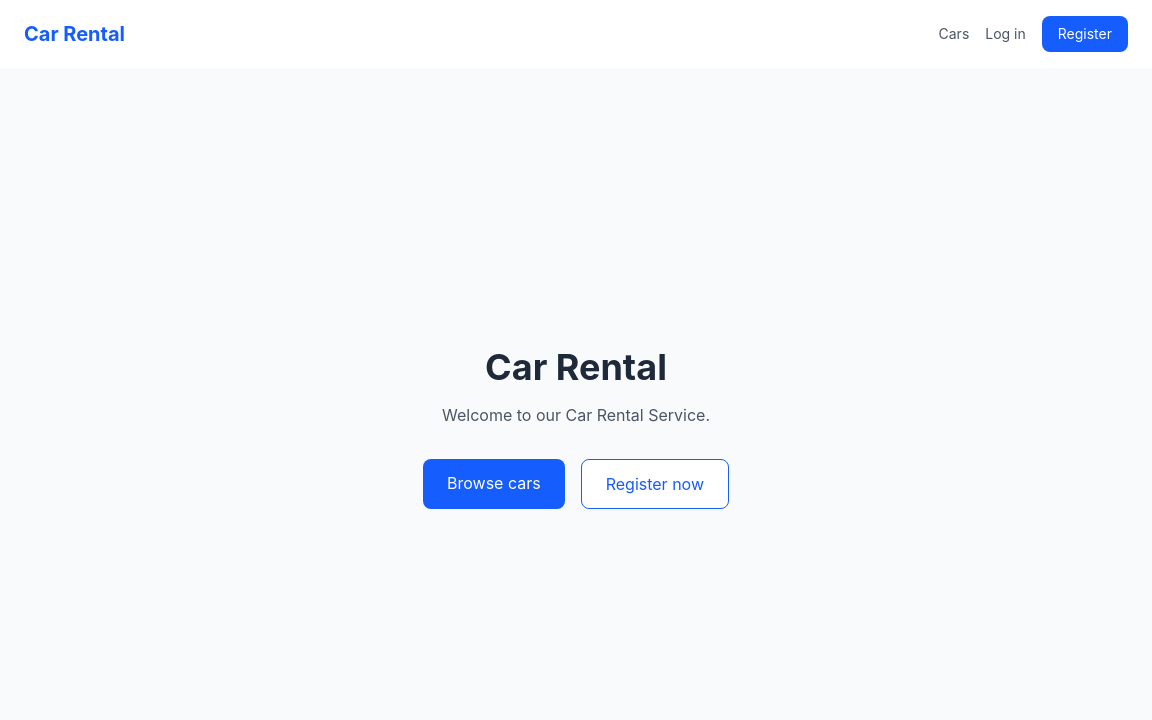
Scenario: Home page › navigates to the car list on click
Click the link with class "browse-cars".
click(494, 484)  # box left=423, top=459, right=565, bottom=509
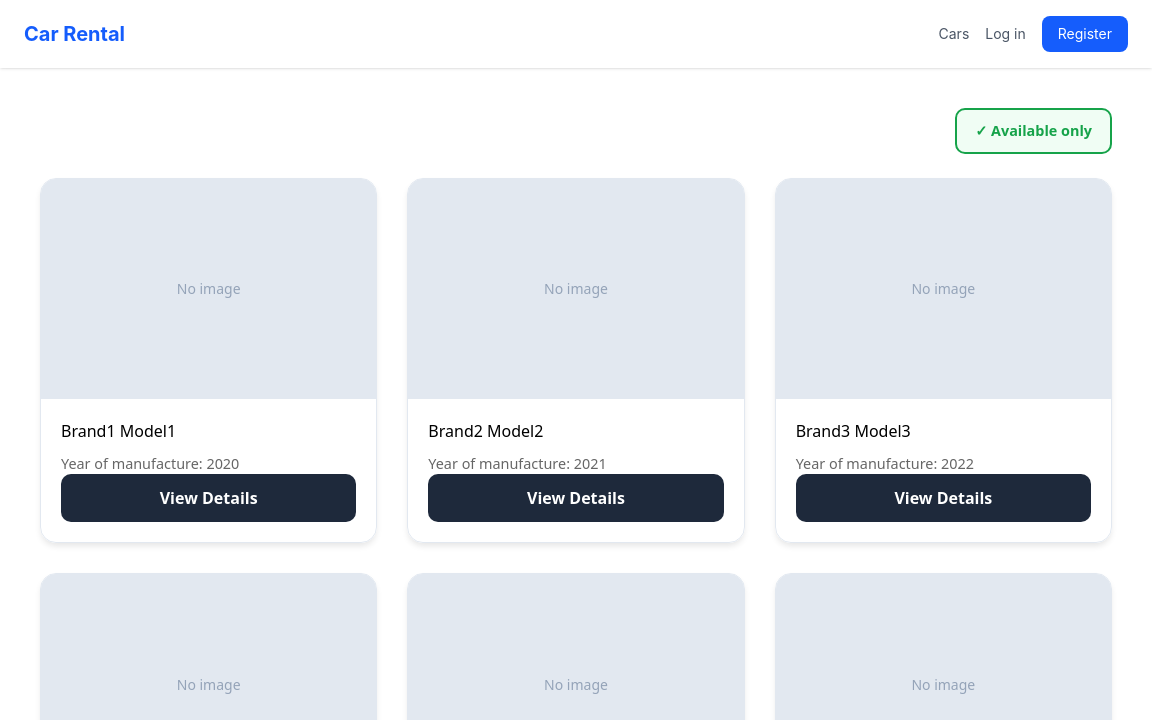
Check: the heading "Brand1 Model1" is shown, box left=61, top=419, right=176, bottom=443
